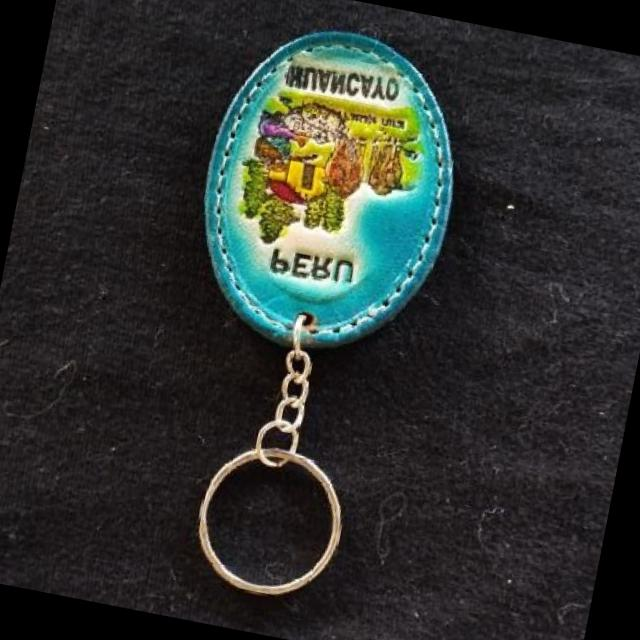Llavero: (176, 10, 481, 374)
